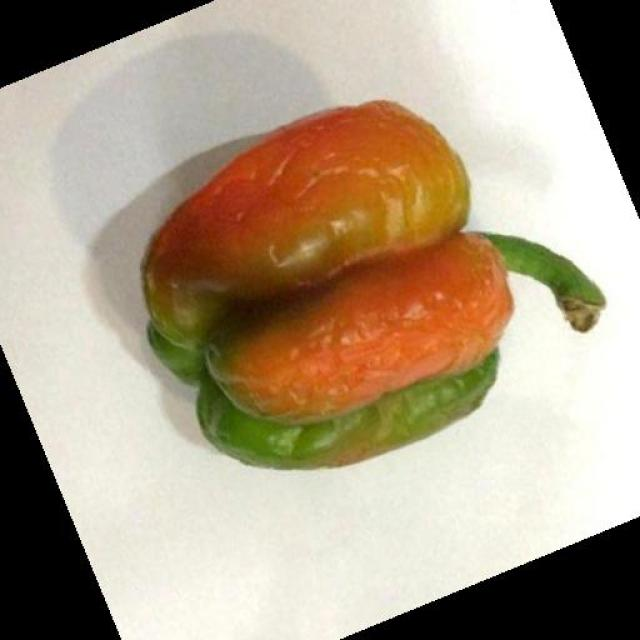Stale_Capsicum: (120, 114, 530, 450)
